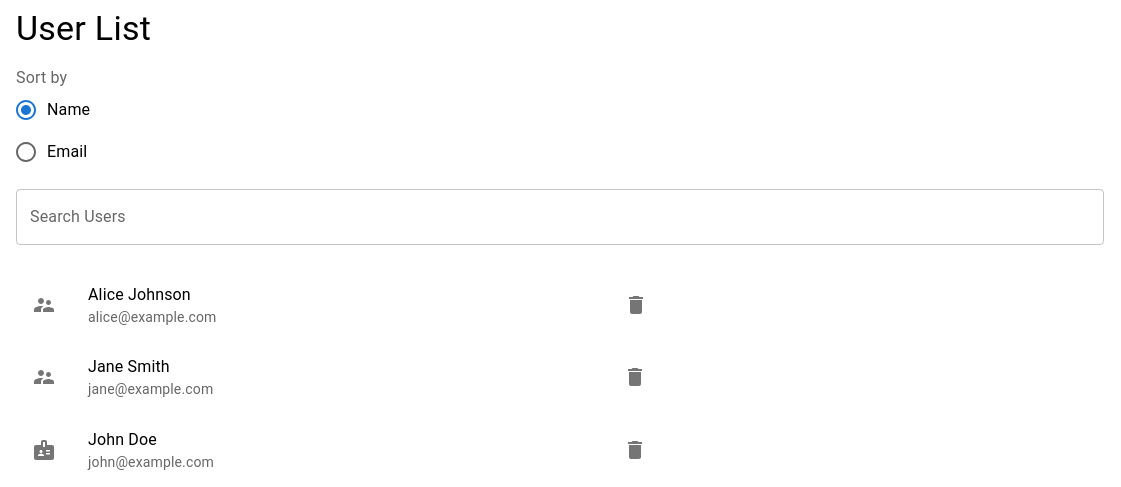
Scenario: UserEmployeeListLeicht Component › should remove a user from the list when delete button is clicked
This screenshot has width=1121, height=487.
Click the button named "delete-Jane Smith": [635, 378] box [623,366,647,390]
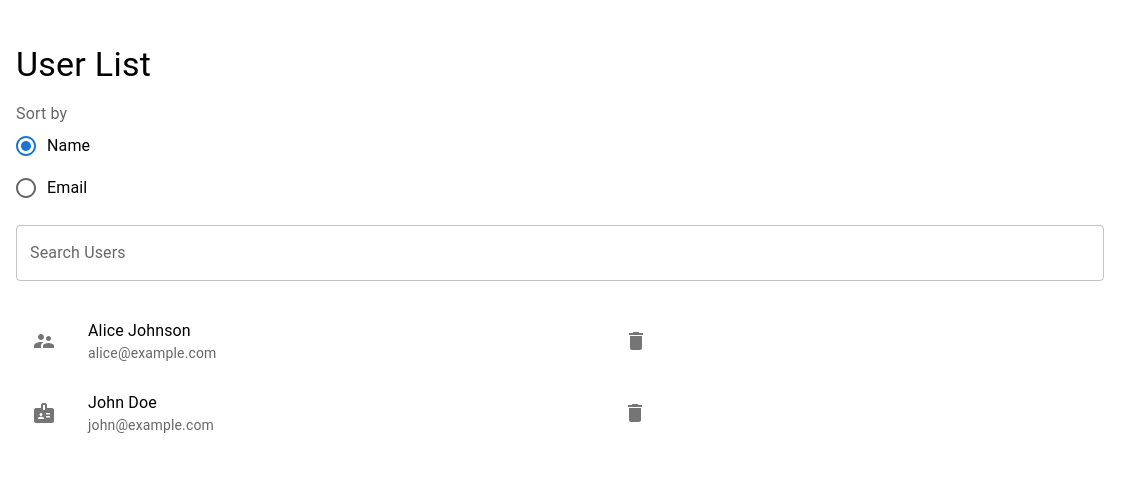
Now the text "Jane Smith" is gone
